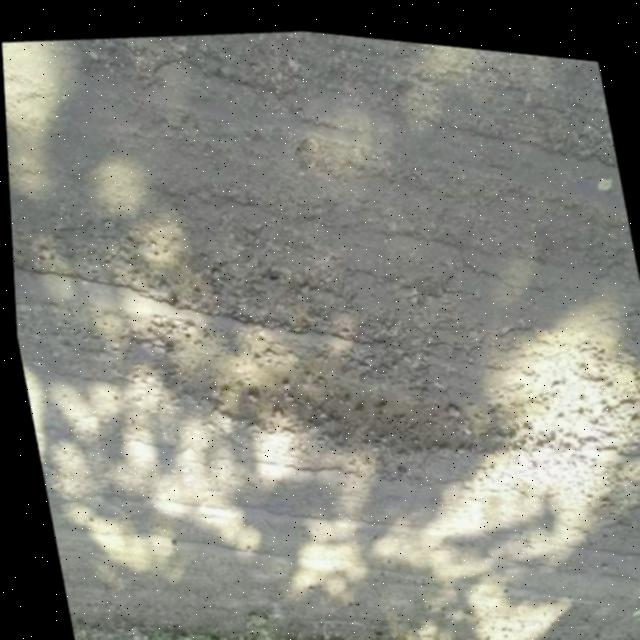Pothole: (147, 275, 545, 498)
